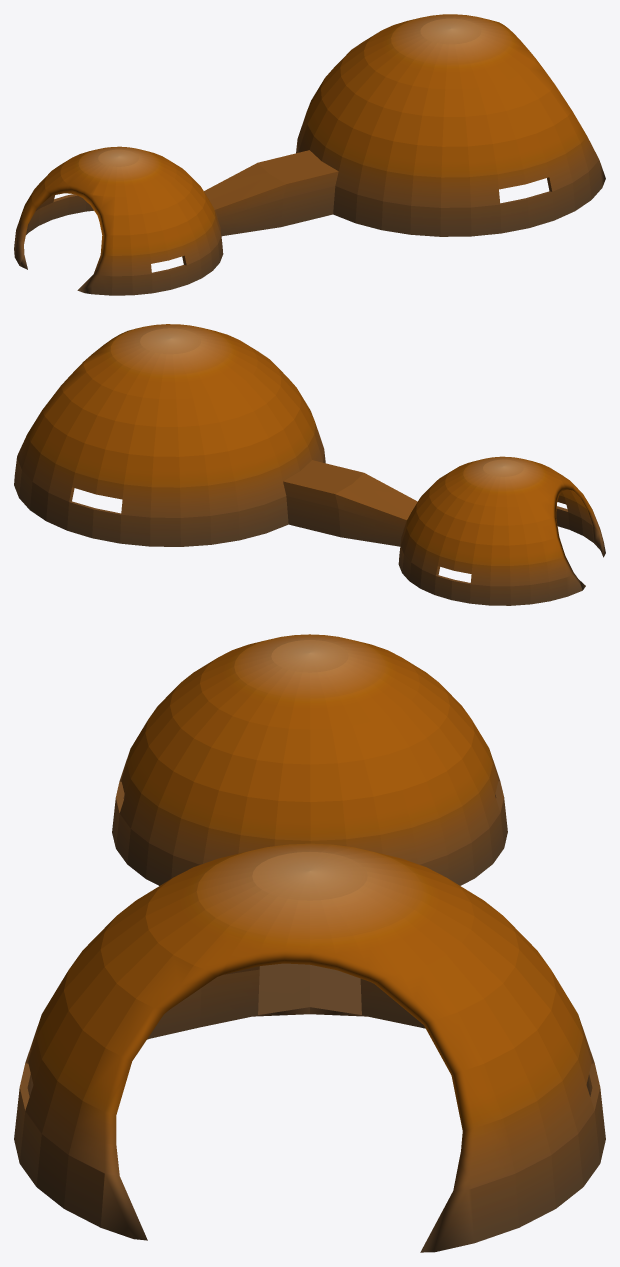
Rendered from SM_Bld_Domo.fbx.
3 views of the same model, one above another, from view 1: azimuth 30°, elevation 25°; view 2: azimuth 150°, elevation 25°; view 3: azimuth 270°, elevation 25° (orthographic). The views are drawn at different scales.
Visible parts, largest first — view 1: SM_Bld_Domo; view 2: SM_Bld_Domo; view 3: SM_Bld_Domo.
Part boxes in pixels (x1,y1,x2,y2): SM_Bld_Domo: [14, 14, 605, 295]; SM_Bld_Domo: [14, 324, 605, 605]; SM_Bld_Domo: [14, 634, 605, 1252].
Size of the model in its own units: 3017 by 755 by 1505.
